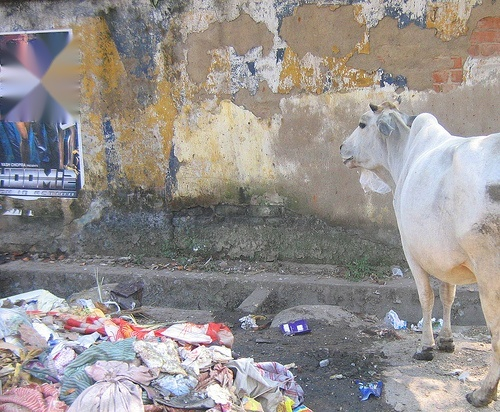cow: (341, 102, 500, 406)
